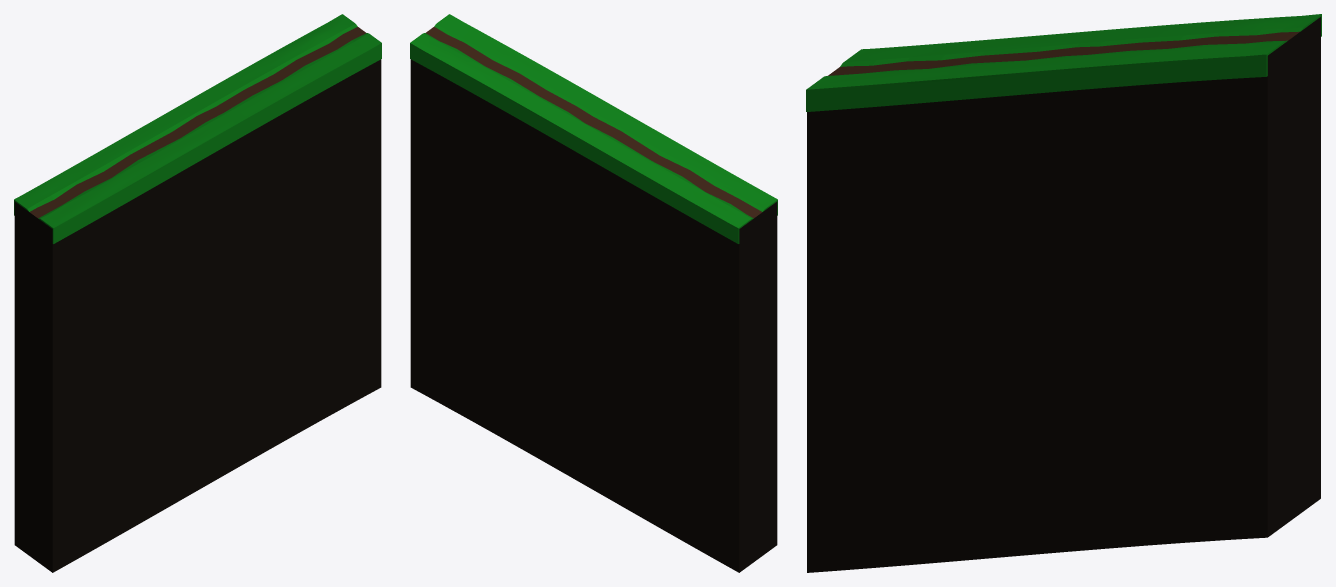
Rendered from blockSlope02.fbx.
3 views of the same model, side by side, from view 1: azimuth 30°, elevation 25°; view 2: azimuth 150°, elevation 25°; view 3: azimuth 330°, elevation 25° (orthographic). The views are drawn at different scales.
Visible parts, largest first — view 1: Box001; view 2: Box001; view 3: Box001.
Part boxes in pixels (left/top/right/bottom): Box001: left=14, top=14, right=381, bottom=572; Box001: left=410, top=14, right=777, bottom=572; Box001: left=806, top=14, right=1321, bottom=572.
Size of the model in its own units: 50 by 10.41 by 65.52.
